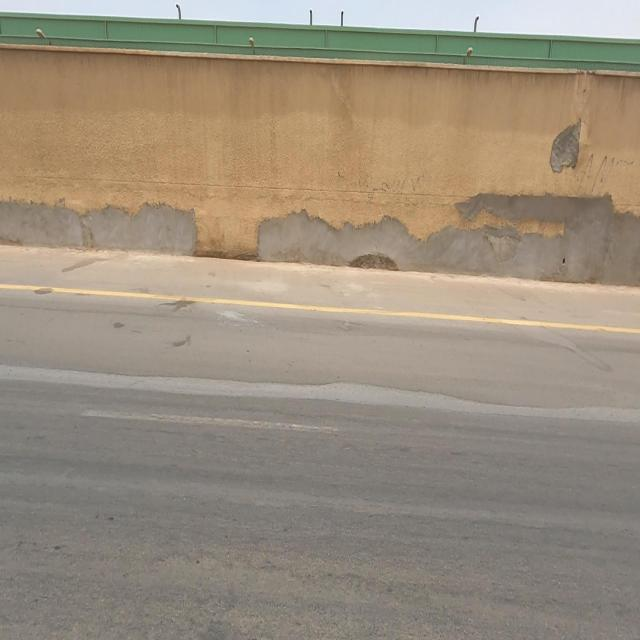debris: (180, 144, 502, 314), (384, 129, 640, 340), (12, 142, 260, 315)
